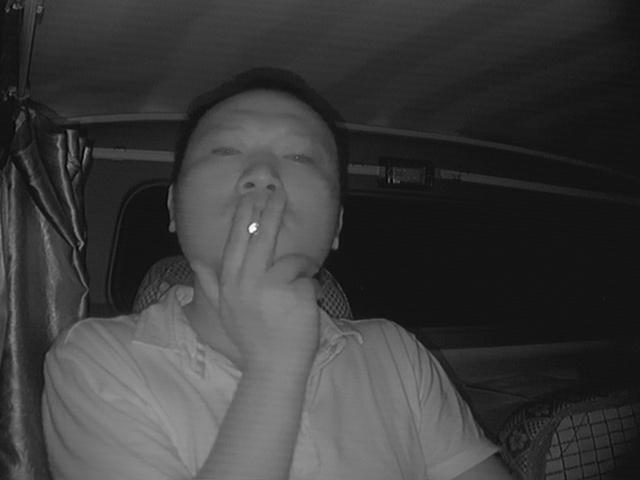hand: (218, 198, 322, 322)
